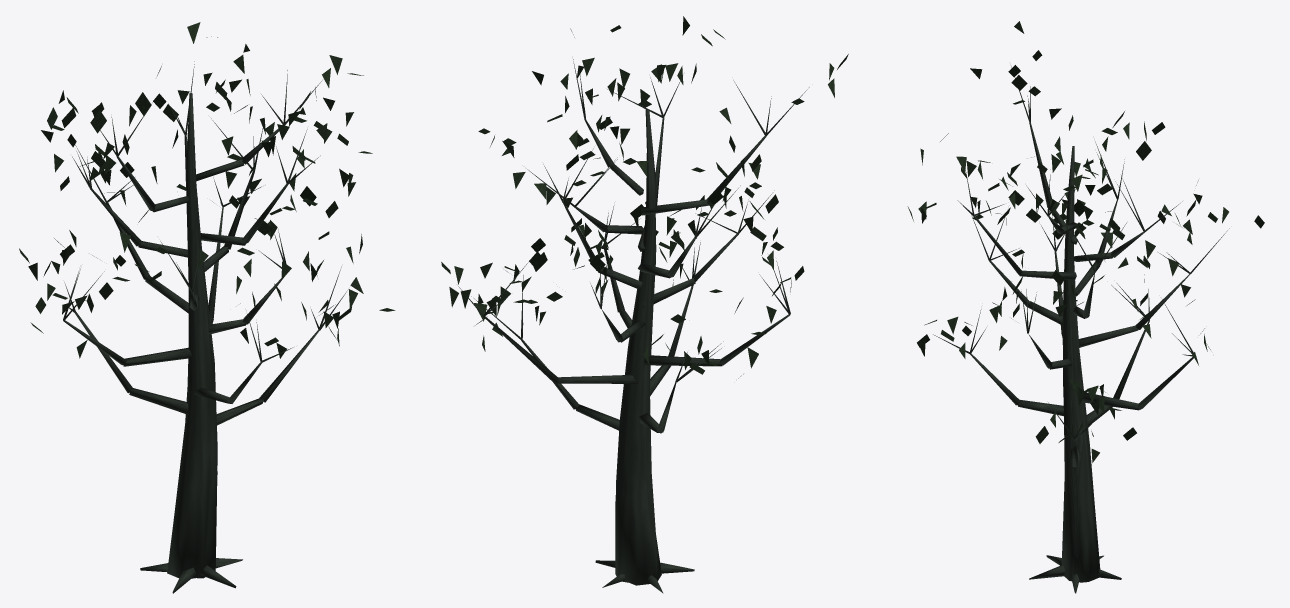
File: tree_oak_lod.glb
3 renders of one model, left to right at view 1: azimuth 30°, elevation 25°; view 2: azimuth 150°, elevation 25°; view 3: azimuth 270°, elevation 25°, orthographic. The views are drawn at different scales.
Visible parts, largest first — view 1: Twisted_bark_trunk.001, Leaf_canopy.001, Main_branch.018, Main_branch.015; view 2: Twisted_bark_trunk.001, Leaf_canopy.001, Main_branch.017, Main_branch.018; view 3: Leaf_canopy.001, Twisted_bark_trunk.001.
Part boxes in pixels (x1,y1,x2,y2): Twisted_bark_trunk.001: (167,93,217,578); Leaf_canopy.001: (19,22,395,358); Main_branch.018: (123,347,192,366); Main_branch.015: (129,388,188,414); Twisted_bark_trunk.001: (615,109,661,585); Leaf_canopy.001: (441,16,848,378); Main_branch.017: (556,375,638,383); Main_branch.018: (644,355,722,366); Leaf_canopy.001: (907,21,1264,462); Twisted_bark_trunk.001: (1061,146,1100,582).
Size of the model in its own units: 6.36 by 8.83 by 6.28.
Materials: 2 (2 with a texture image).
